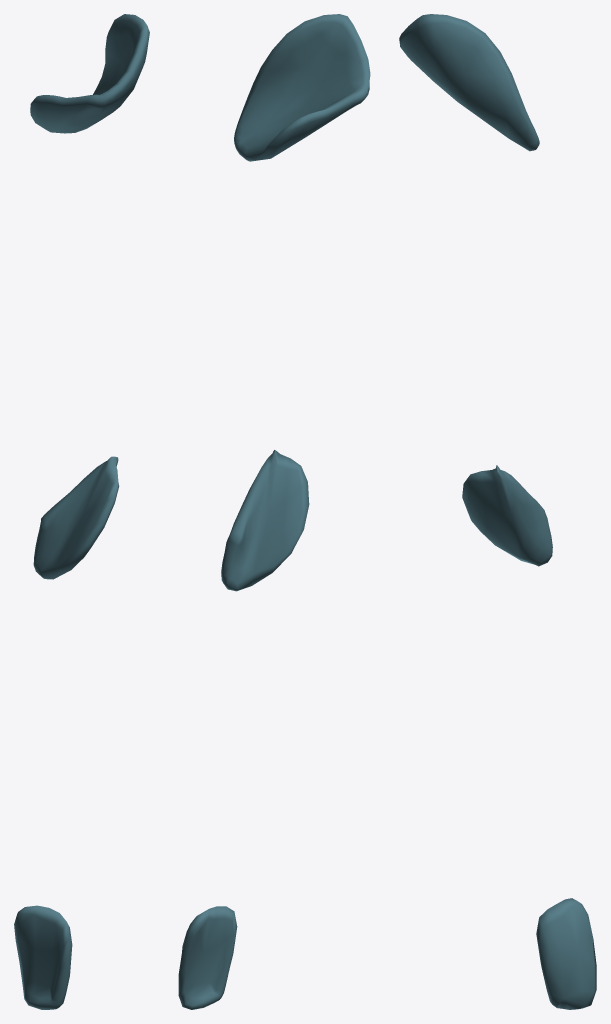
Rendered from Scalene_anterior_muscle_on_transverse_processes.l_Generated_Mes.glb.
The picture shows the model from 3 angles, left to right: view 1: azimuth 90°, elevation 25°; view 2: azimuth 150°, elevation 25°; view 3: azimuth 330°, elevation 25°; orthographic projection. The views are drawn at different scales.
Visible parts, largest first — view 1: Scalene_anterior_muscle_on_transverse_processes.l_Generated_; view 2: Scalene_anterior_muscle_on_transverse_processes.l_Generated_; view 3: Scalene_anterior_muscle_on_transverse_processes.l_Generated_.
Boxes of the visible parts, x1=… form: Scalene_anterior_muscle_on_transverse_processes.l_Generated_: x1=14, y1=14, x2=149, y2=1009; Scalene_anterior_muscle_on_transverse_processes.l_Generated_: x1=178, y1=14, x2=370, y2=1009; Scalene_anterior_muscle_on_transverse_processes.l_Generated_: x1=399, y1=14, x2=596, y2=1009.
Bounding box in the file's own units: 0.0058 × 0.0359 × 0.00426.
